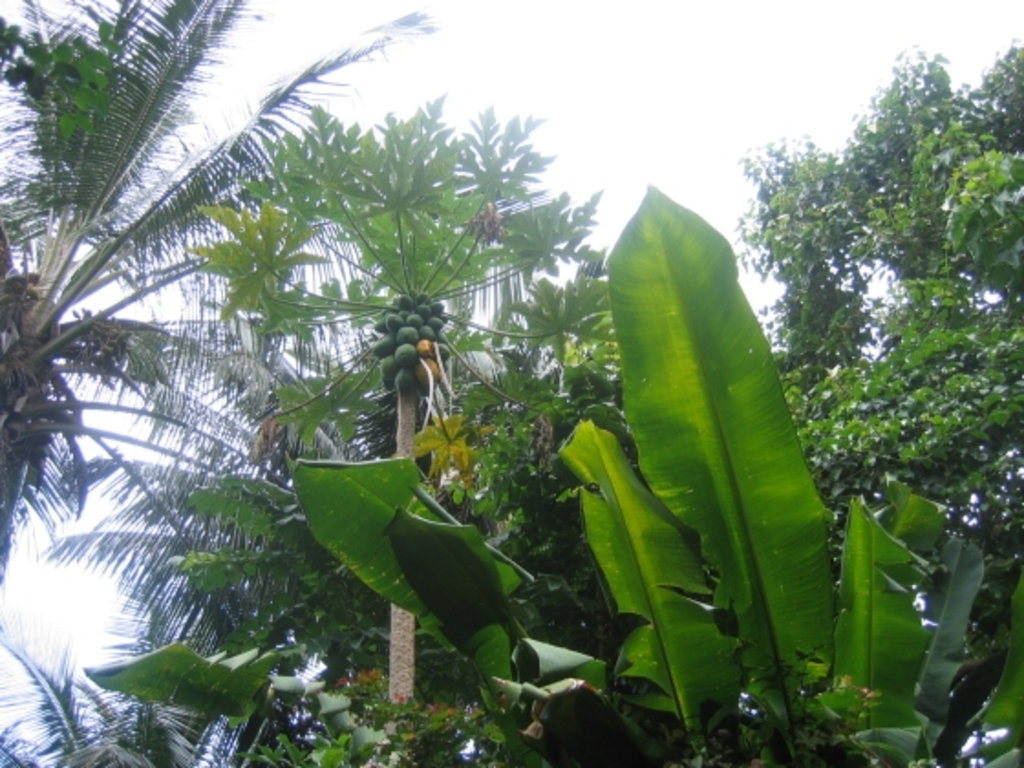Tree: (0, 0, 1022, 766), (138, 73, 605, 552)
